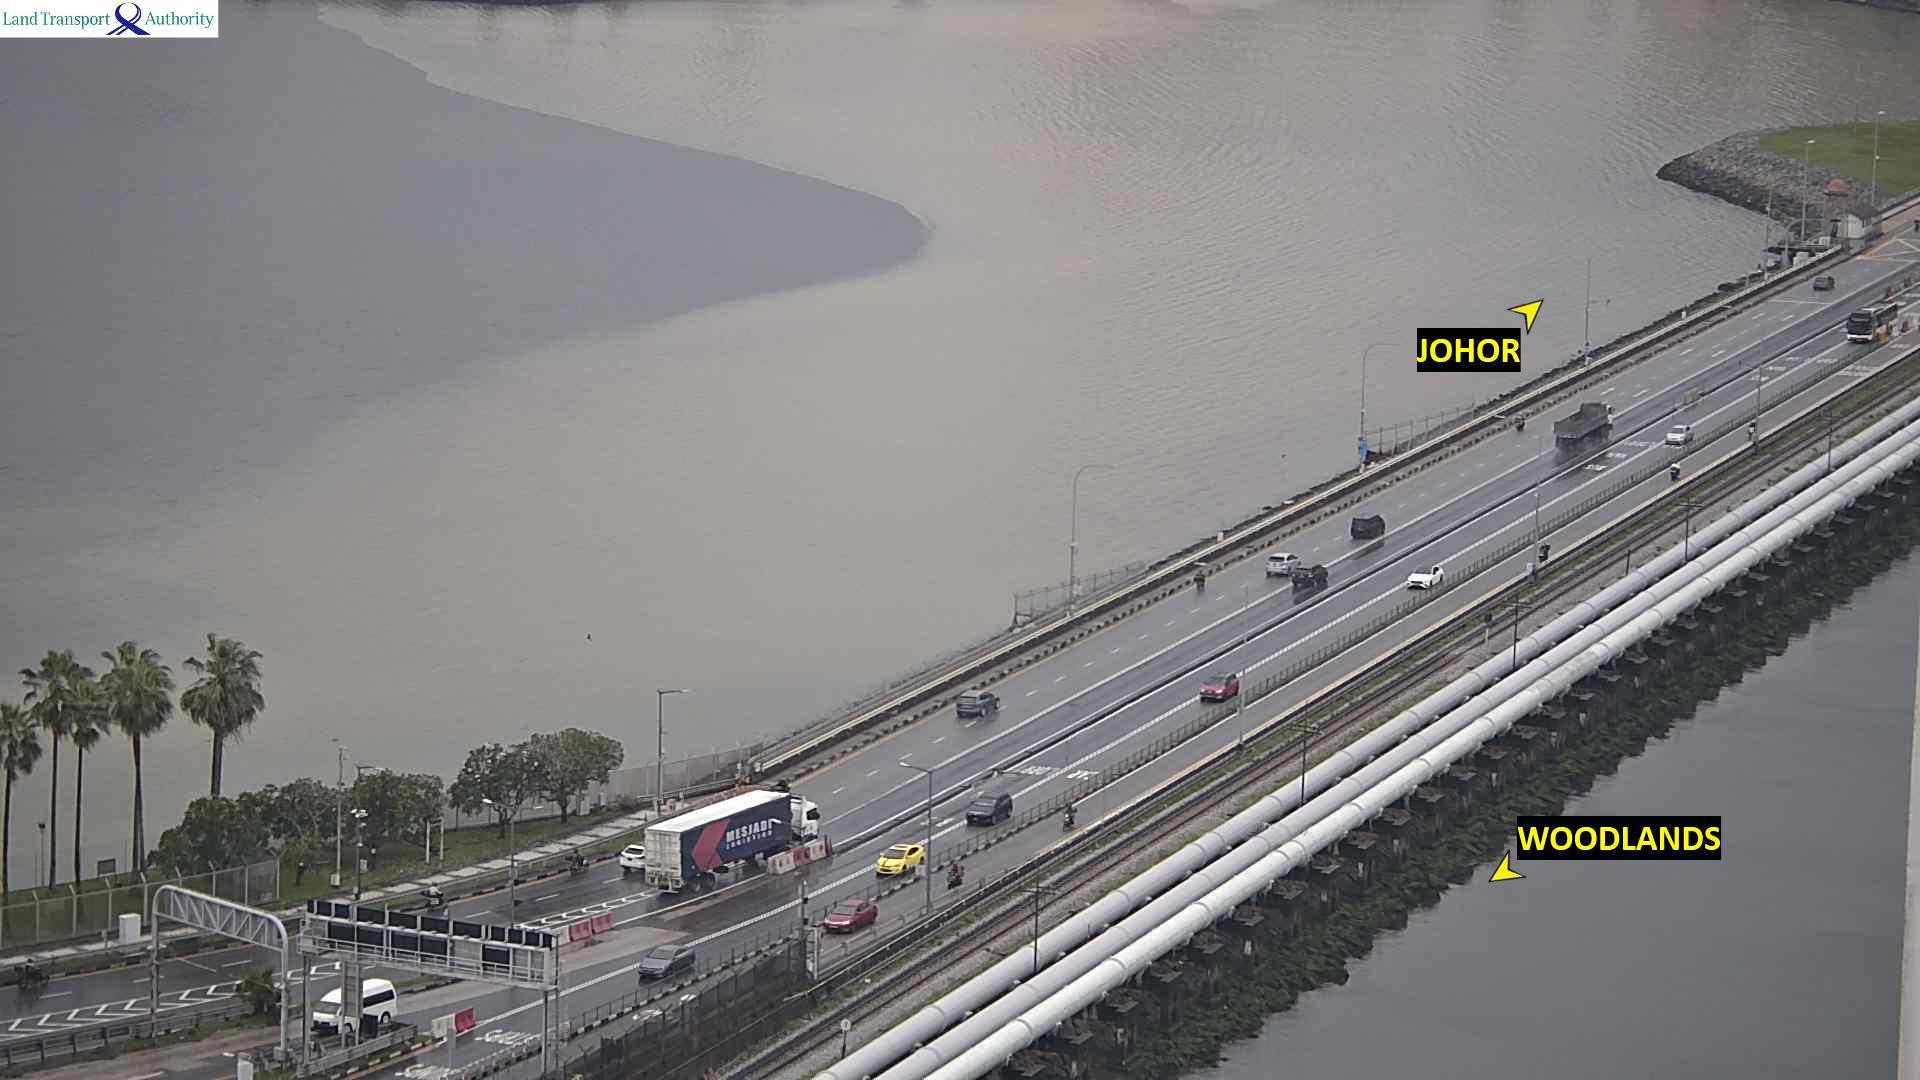vehicle-causeway-johor: (646, 785, 824, 889), (1556, 400, 1611, 447), (973, 691, 1010, 724), (959, 692, 997, 724), (1266, 550, 1303, 578), (1353, 514, 1383, 543), (620, 840, 646, 870), (1292, 562, 1324, 584), (568, 847, 588, 873), (423, 884, 444, 906), (1816, 276, 1833, 291), (1193, 568, 1207, 587), (1514, 411, 1527, 430)
vehicle-causeway-singapore: (301, 980, 393, 1036), (1842, 299, 1896, 342), (640, 948, 700, 980), (824, 901, 877, 932), (876, 845, 927, 876), (968, 794, 1013, 825), (1201, 670, 1237, 702), (1404, 564, 1443, 592), (1664, 422, 1693, 446), (1664, 459, 1680, 488), (947, 864, 964, 889), (1060, 804, 1076, 831), (1745, 419, 1758, 436)
